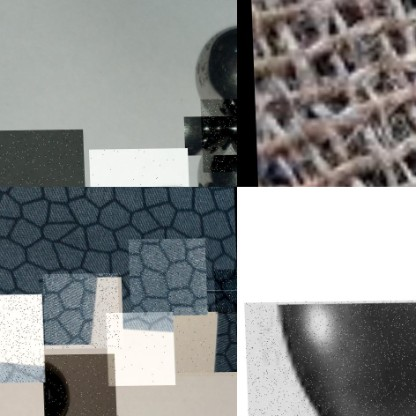ironball: (242, 300, 415, 415), (127, 239, 206, 316), (41, 273, 118, 349), (104, 312, 173, 386), (0, 129, 83, 186), (40, 354, 114, 415), (172, 308, 237, 377), (86, 148, 189, 186), (0, 294, 43, 383), (199, 22, 234, 115), (198, 99, 237, 173), (212, 270, 237, 315)
